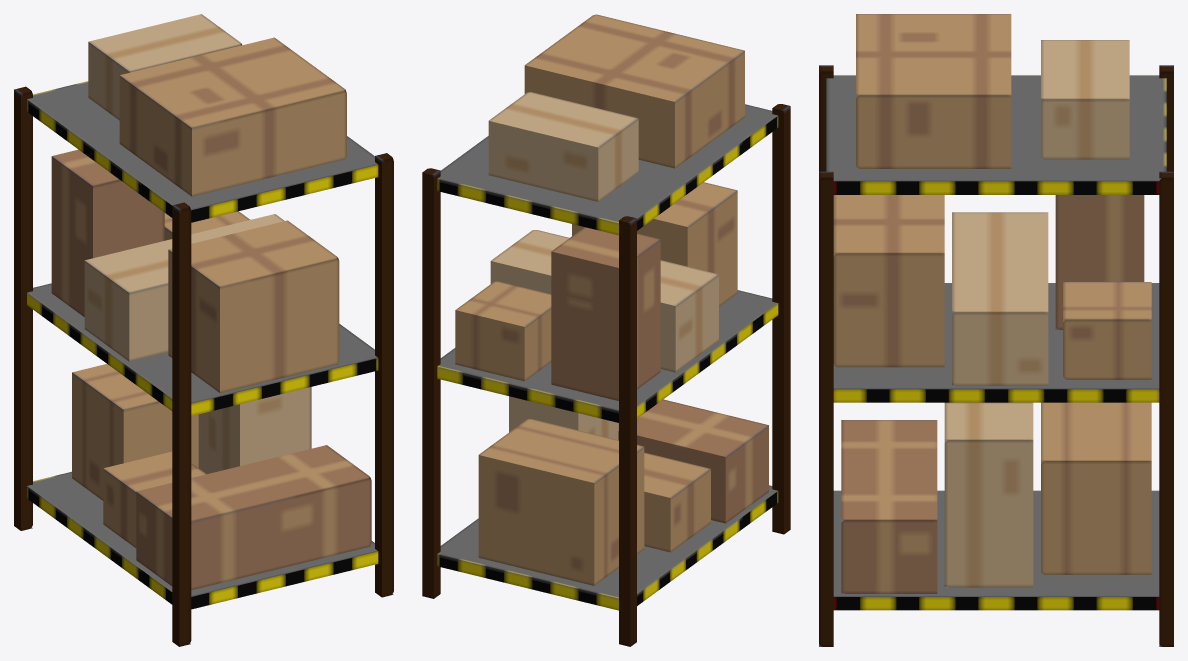
Rendered from shelf1.fbx.
3 renders of one model, left to right at view 1: azimuth 30°, elevation 25°; view 2: azimuth 150°, elevation 25°; view 3: azimuth 270°, elevation 25°, orthographic. The views are drawn at different scales.
Parts seen in each view (by area): view 1: cube_9, cube_7, cube_10, cube_6, cube_14, cube_8, cube_11, cube_4, cube_2, cube_5, cube_3, cube_1 (+4 smaller); view 2: cube_11, cube_9, cube_14, cube_16, cube_6, cube_7, cube_4, cube_8, cube_5, cube, cube_15, cube_2 (+4 smaller); view 3: cube_9, cube_10, cube_11, cube_6, cube_7, cube_8, cube_13, cube_4, cube_5, cube_16, cube_15, cube_14 (+4 smaller).
Boxes of the visible parts, x1=… form: cube_9: x1=119, y1=37, x2=346, y2=196; cube_7: x1=136, y1=445, x2=371, y2=590; cube_10: x1=168, y1=220, x2=339, y2=393; cube_6: x1=27, y1=81, x2=378, y2=222; cube_14: x1=51, y1=149, x2=164, y2=316; cube_8: x1=84, y1=214, x2=284, y2=361; cube_11: x1=72, y1=364, x2=198, y2=500; cube_4: x1=27, y1=471, x2=378, y2=609; cube_2: x1=172, y1=202, x2=191, y2=646; cube_5: x1=27, y1=283, x2=378, y2=415; cube_3: x1=375, y1=153, x2=393, y2=597; cube_1: x1=14, y1=86, x2=32, y2=530; cube_11: x1=478, y1=419, x2=644, y2=585; cube_9: x1=524, y1=14, x2=744, y2=168; cube_14: x1=551, y1=227, x2=660, y2=400; cube_16: x1=488, y1=92, x2=638, y2=201; cube_6: x1=437, y1=104, x2=778, y2=235; cube_7: x1=618, y1=399, x2=768, y2=523; cube_4: x1=437, y1=485, x2=778, y2=610; cube_8: x1=490, y1=230, x2=718, y2=372; cube_5: x1=437, y1=290, x2=778, y2=422; cube: x1=422, y1=168, x2=440, y2=598; cube_15: x1=455, y1=281, x2=551, y2=381; cube_2: x1=772, y1=104, x2=790, y2=534; cube_9: x1=856, y1=14, x2=1011, y2=168; cube_10: x1=833, y1=195, x2=944, y2=367; cube_11: x1=1041, y1=402, x2=1151, y2=574; cube_6: x1=826, y1=75, x2=1166, y2=194; cube_7: x1=841, y1=420, x2=937, y2=593; cube_8: x1=952, y1=212, x2=1048, y2=385; cube_13: x1=944, y1=402, x2=1033, y2=587; cube_4: x1=833, y1=490, x2=1159, y2=610; cube_5: x1=833, y1=283, x2=1159, y2=402; cube_16: x1=1041, y1=40, x2=1129, y2=159; cube_15: x1=1063, y1=282, x2=1151, y2=379; cube_14: x1=1055, y1=195, x2=1144, y2=329.
Bounding box in the file's own units: 225 × 500 × 300.
1 material, 1 textured.
